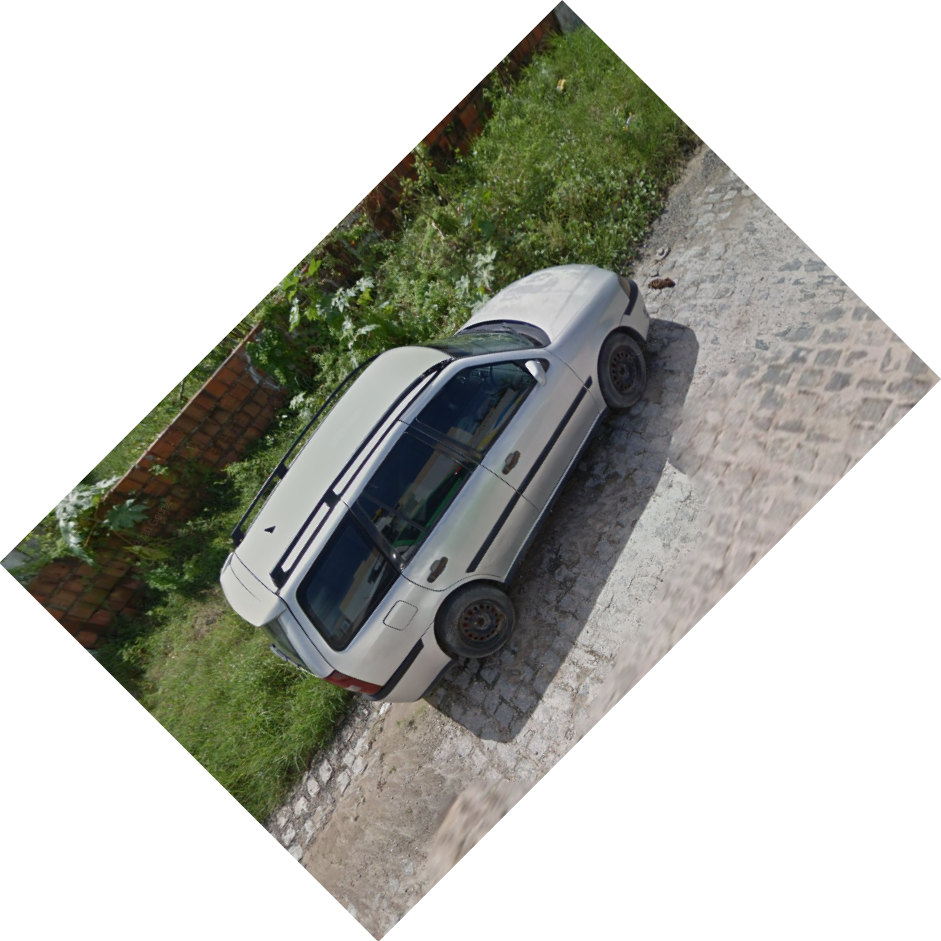car: (216, 260, 664, 705)
